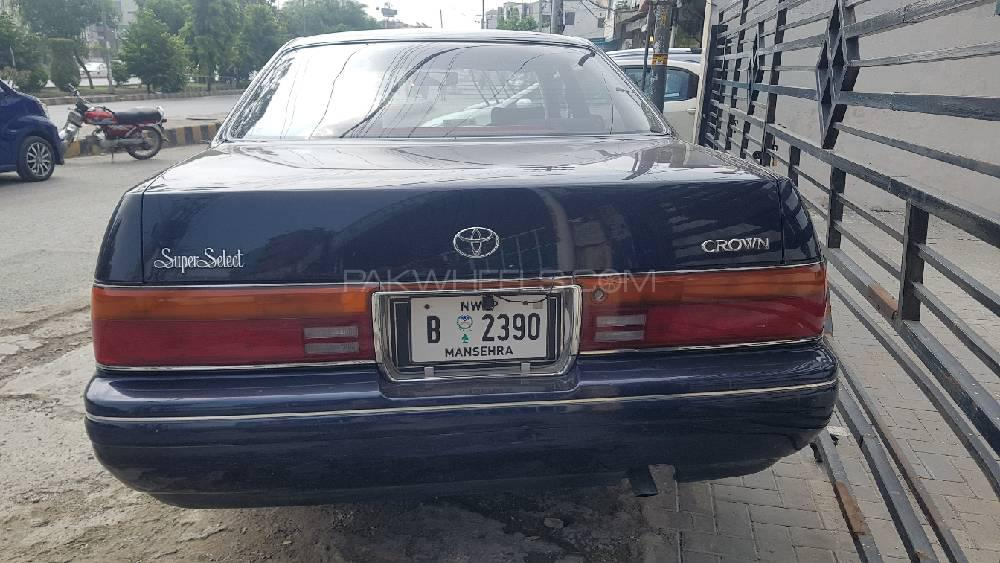license plate: (412, 298, 551, 359)
